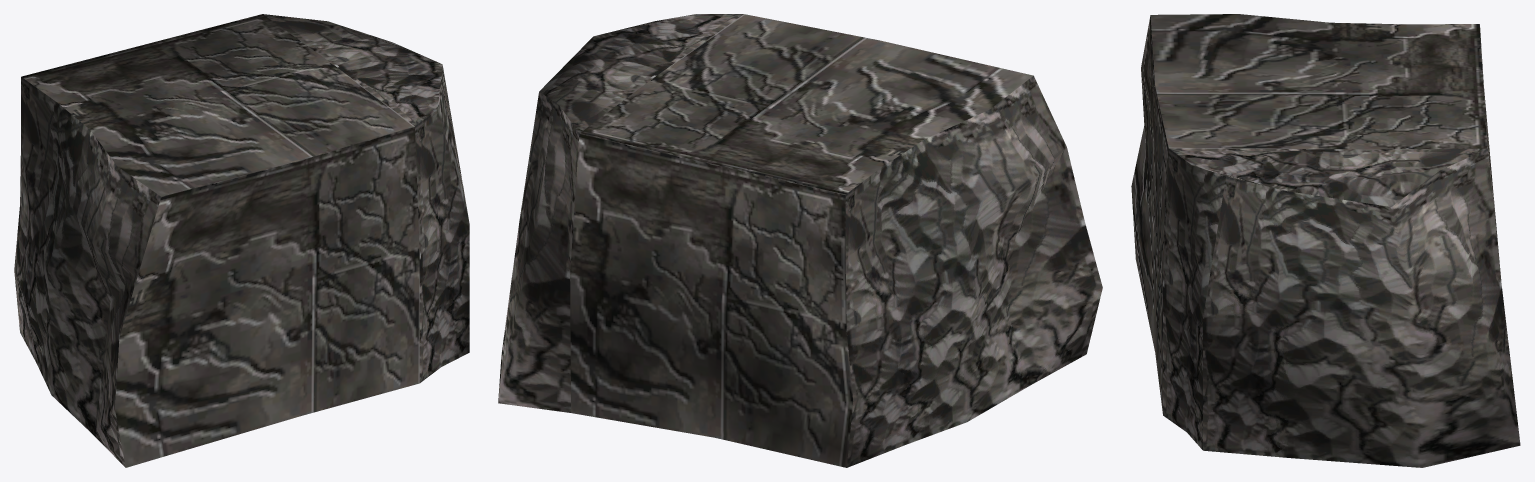
Rendered from INST_SM_DEBRIS_BLOCK_MEDIUMC.fbx.
The picture shows the model from 3 angles, left to right: view 1: azimuth 30°, elevation 25°; view 2: azimuth 150°, elevation 25°; view 3: azimuth 270°, elevation 25°; orthographic projection. The views are drawn at different scales.
Visible parts, largest first — view 1: INST_SM_DEBRIS_BLOCK_MEDIUMC; view 2: INST_SM_DEBRIS_BLOCK_MEDIUMC; view 3: INST_SM_DEBRIS_BLOCK_MEDIUMC.
Boxes of the visible parts, x1,y1,x2,y2 form: INST_SM_DEBRIS_BLOCK_MEDIUMC: (14,14,469,467); INST_SM_DEBRIS_BLOCK_MEDIUMC: (498,14,1102,467); INST_SM_DEBRIS_BLOCK_MEDIUMC: (1131,14,1520,467).
Bounding box in the file's own units: 67023 × 38688 × 51245.
Materials: 2 (2 with a texture image).
